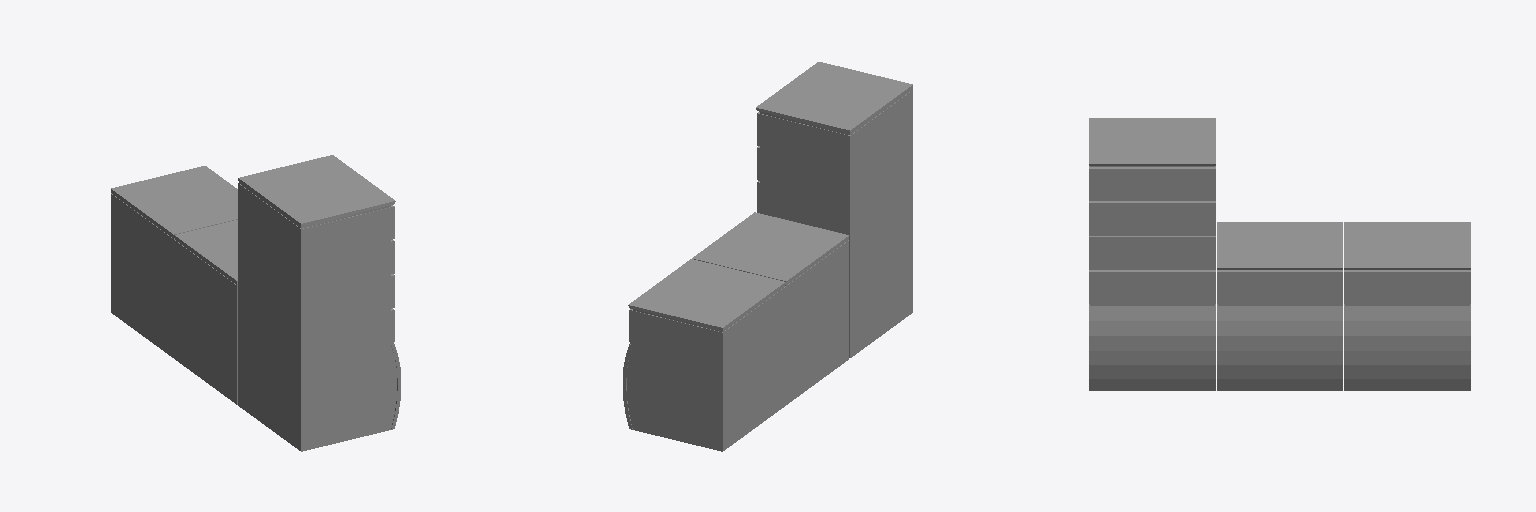
The picture shows the model from 3 angles: view 1: azimuth 30°, elevation 25°; view 2: azimuth 150°, elevation 25°; view 3: azimuth 270°, elevation 25°; orthographic projection.
Visible parts, largest first — view 1: highbox_Cube.001, box2_Cube.005, box1_Cube.004; view 2: highbox_Cube.001, box2_Cube.005, box1_Cube.004; view 3: highbox_Cube.001, box2_Cube.005, box1_Cube.004.
Part boxes in pixels (bbox=[...]): highbox_Cube.001: bbox=[238, 155, 400, 451]; box2_Cube.005: bbox=[111, 166, 237, 357]; box1_Cube.004: bbox=[174, 220, 237, 404]; highbox_Cube.001: bbox=[756, 62, 912, 357]; box2_Cube.005: bbox=[623, 259, 785, 451]; box1_Cube.004: bbox=[692, 212, 848, 404]; highbox_Cube.001: bbox=[1089, 118, 1215, 390]; box2_Cube.005: bbox=[1344, 222, 1470, 390]; box1_Cube.004: bbox=[1217, 222, 1342, 390].
Bounding box in the file's own units: 0.4788 × 1.04 × 1.58.